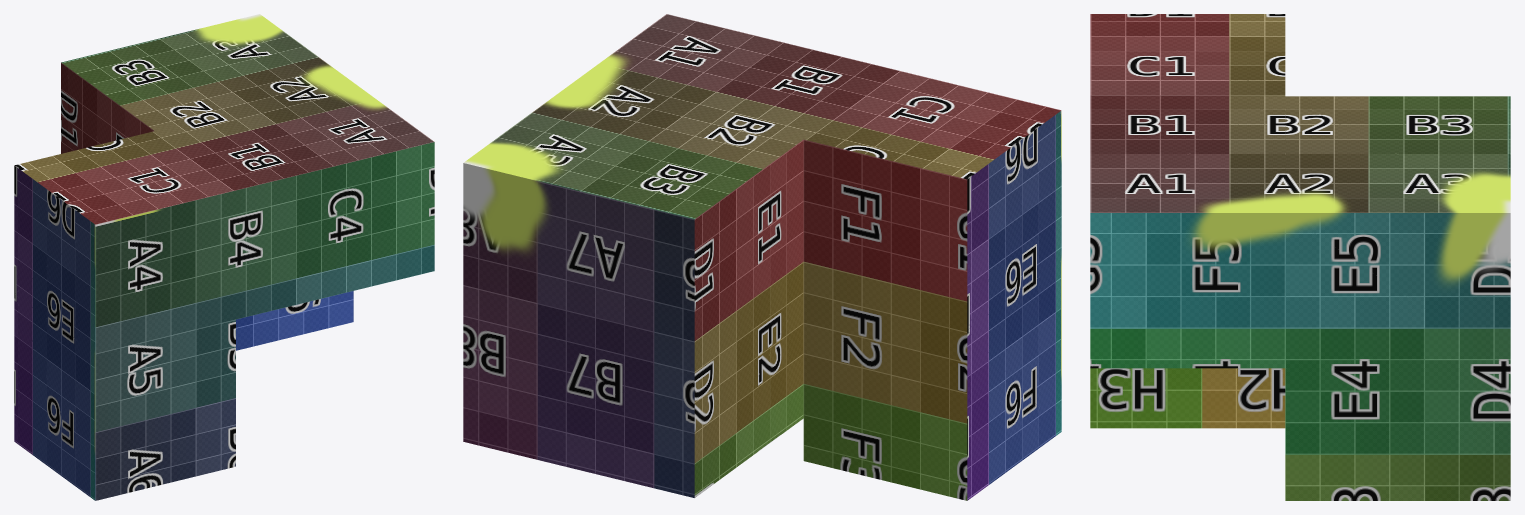
File: 11_thing_painted_blender.glb
3 views of the same model, side by side, from view 1: azimuth 30°, elevation 25°; view 2: azimuth 150°, elevation 25°; view 3: azimuth 270°, elevation 25° (orthographic). The views are drawn at different scales.
Visible parts, largest first — view 1: Cube; view 2: Cube; view 3: Cube.
Boxes of the visible parts, x1,y1,x2,y2 form: Cube: (14, 14, 434, 500); Cube: (463, 14, 1061, 500); Cube: (1090, 14, 1510, 500).
Size of the model in its own units: 0.5086 by 0.3957 by 0.454.
1 material, 1 textured.
